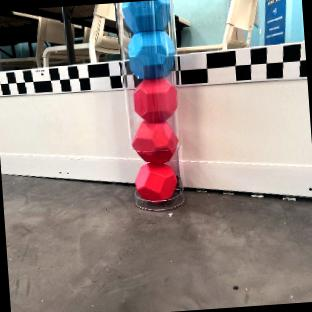V5_BLUE: (128, 29, 173, 78), (123, 0, 169, 32)
V5_RED: (132, 73, 176, 124), (132, 119, 177, 161), (135, 161, 176, 201)
